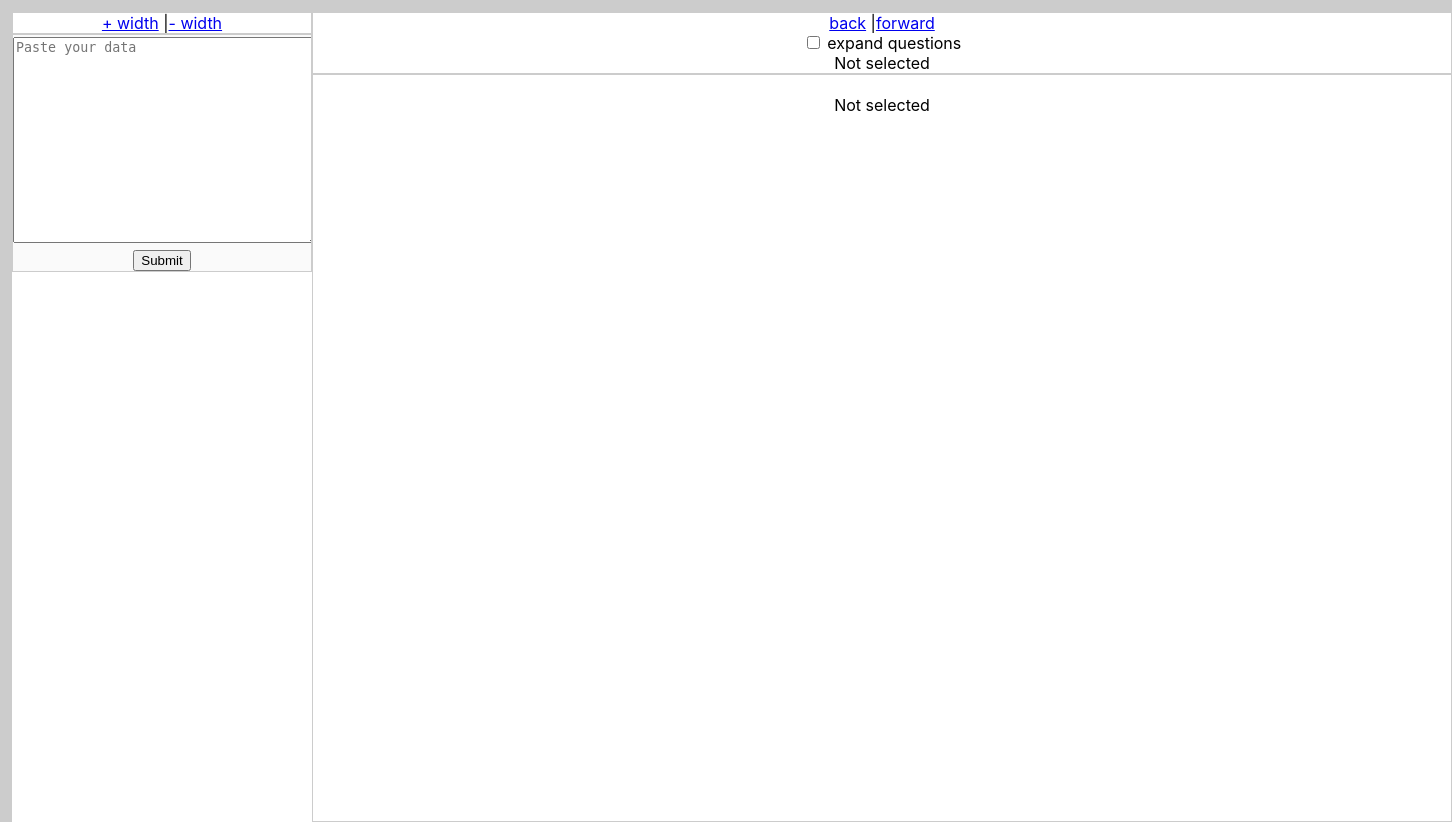
App › supports window.externalText
The image size is (1452, 822).
Type "# default data" into the text box with test id "textarea" at (166, 140), box [13, 37, 319, 243]
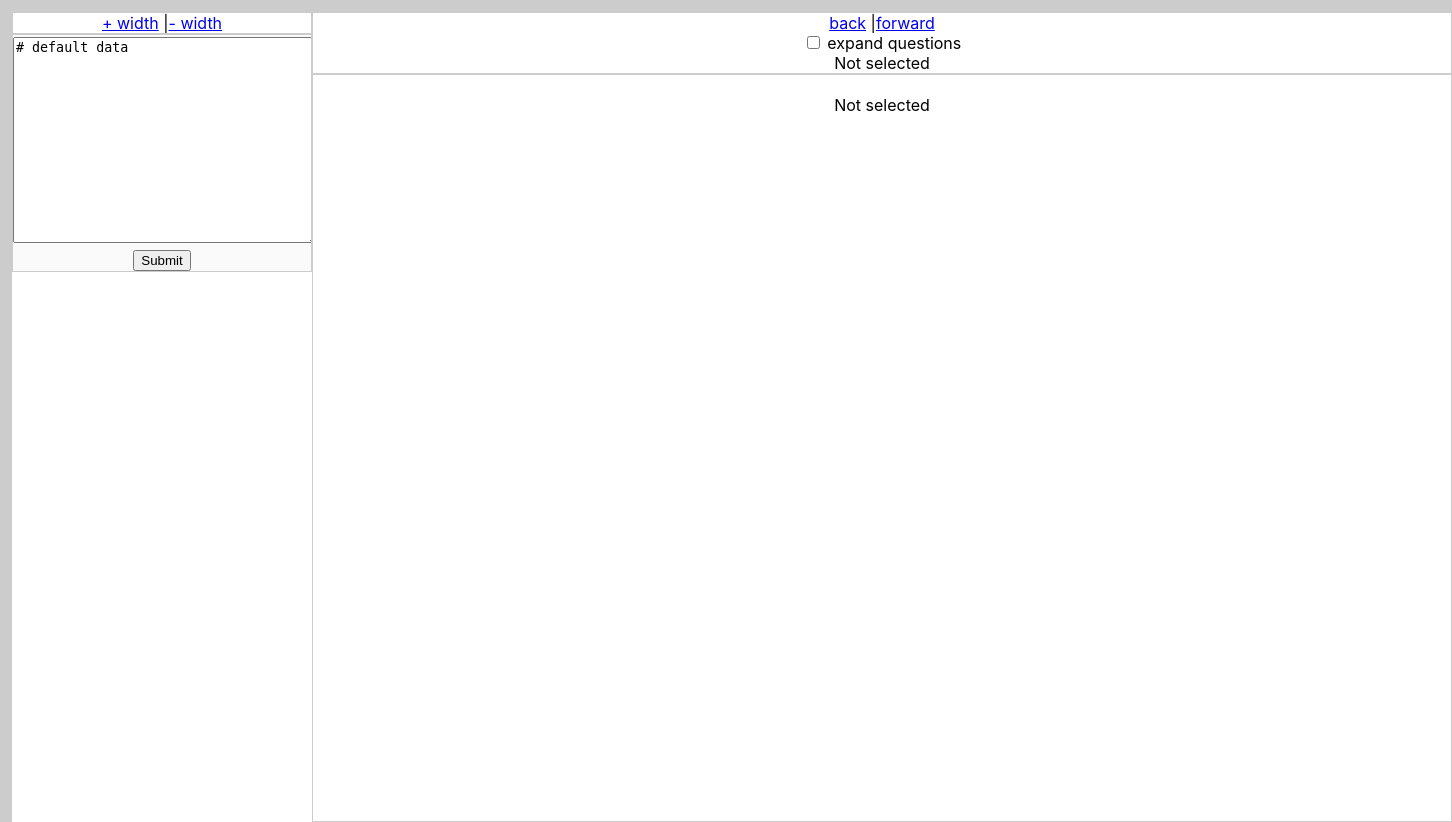
Click the button with test id "submit" at (162, 260), box [133, 250, 191, 271]
Wait 1500 ms
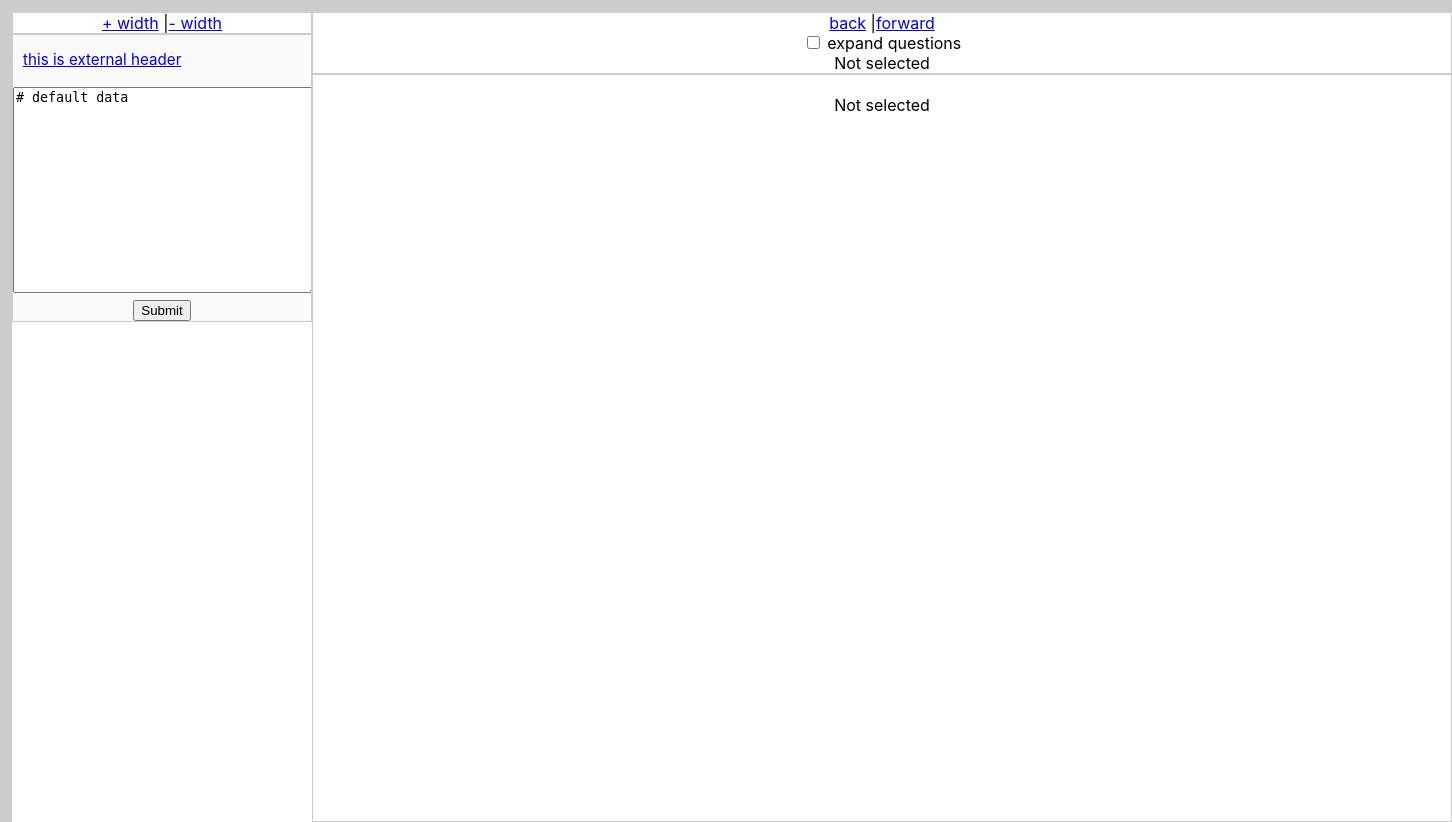
Result: the link "this is external header" is shown at [23, 50, 182, 69]
